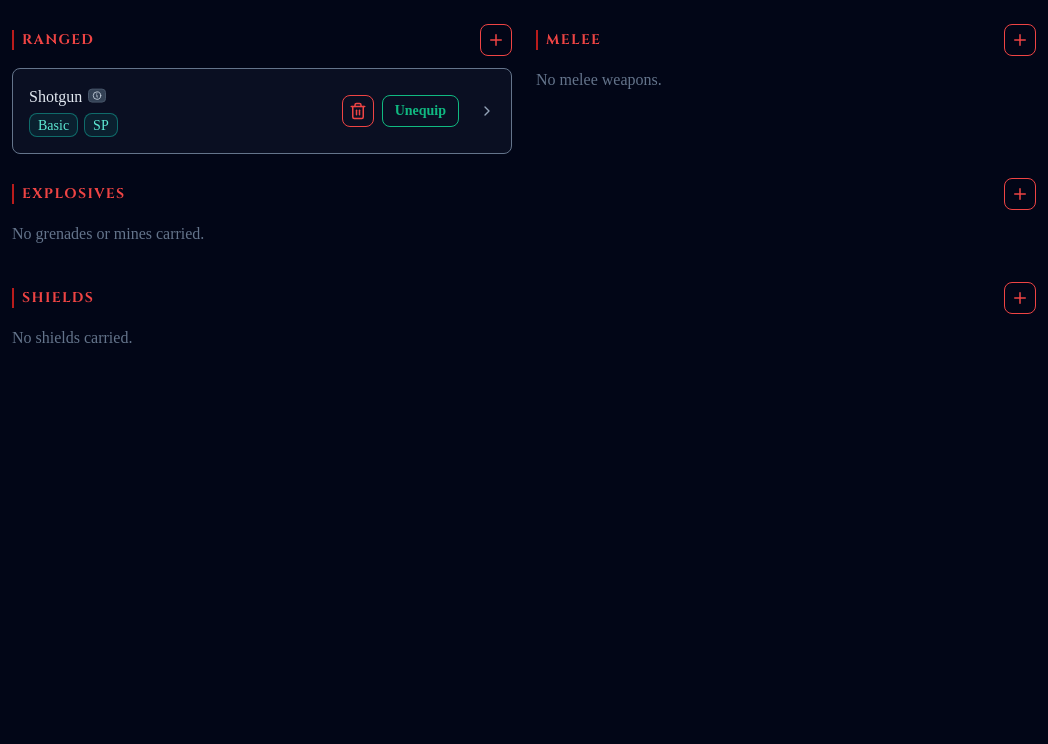
Test: WeaponsTab › shows only rounds for loose-loaded ranged ammo
Check: the text "Rounds" is not shown
Click the button named "Expand Shotgun details" at [262, 111], box 13,69 -> 511,153
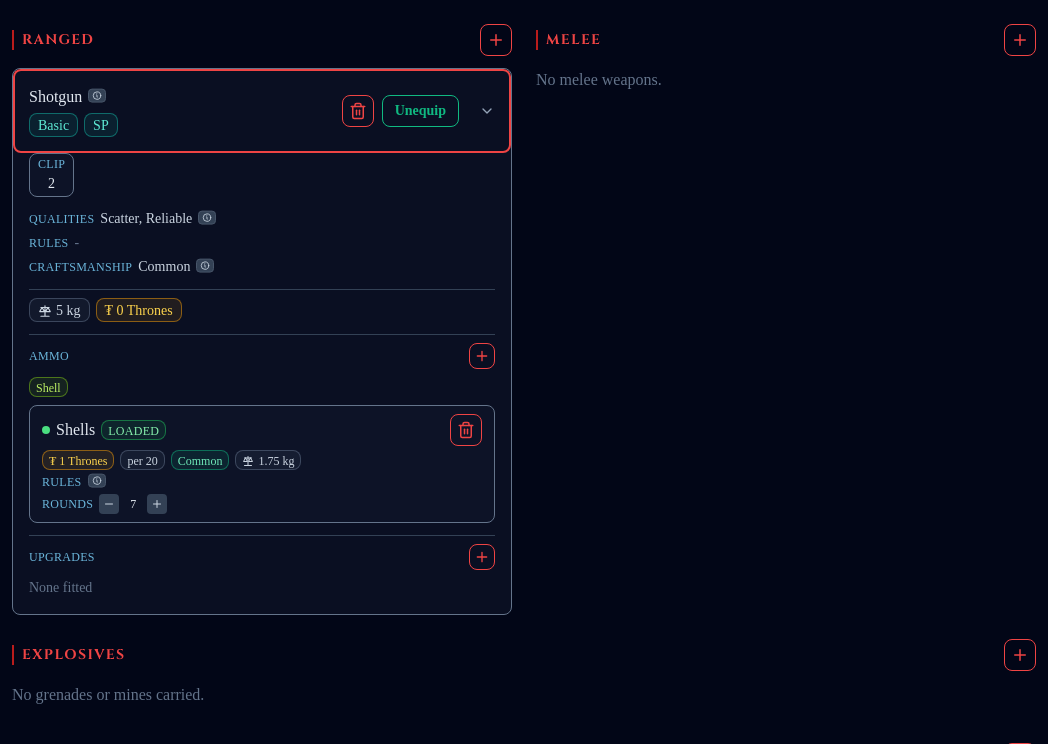
Check: the text "Rounds" is shown, box 42,496 -> 93,512
Check: the button "7" is shown, box 123,496 -> 143,512
